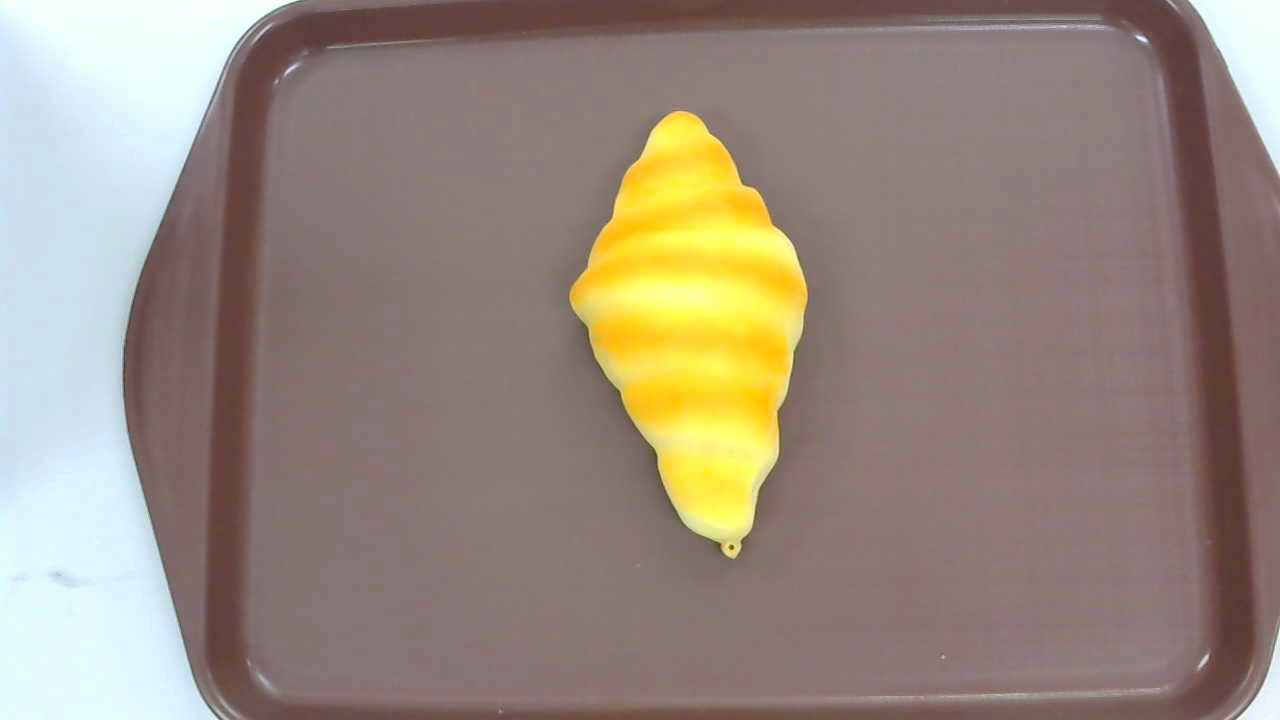croissant: (567, 109, 807, 560)
